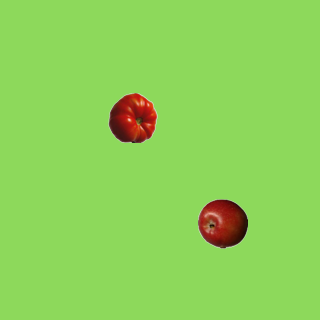Apple Braeburn: (197, 198, 247, 248)
Tomato 3: (107, 92, 157, 142)
